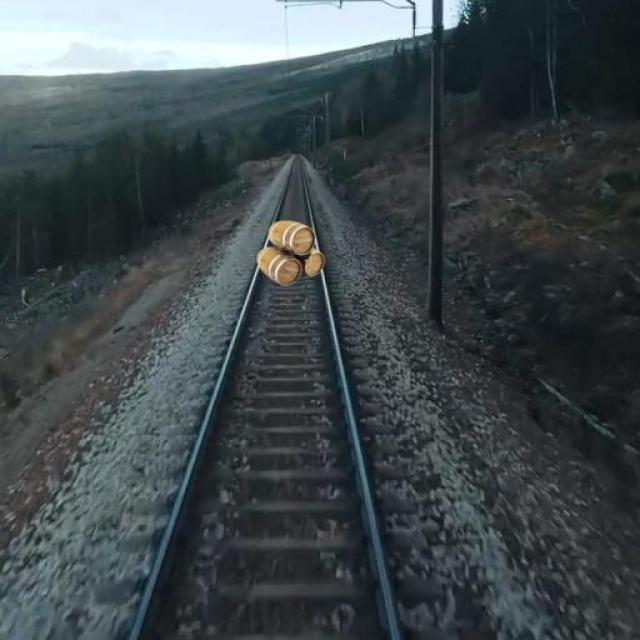Other_objects: (253, 215, 334, 294)
